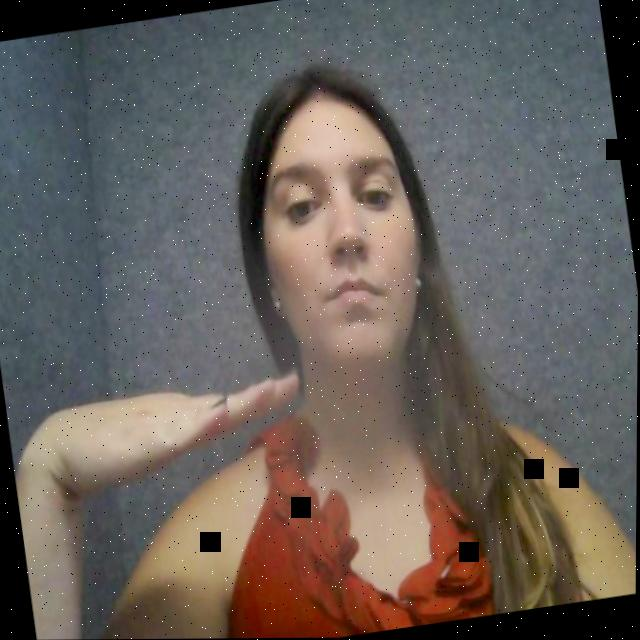Paper: (27, 333, 312, 536)
